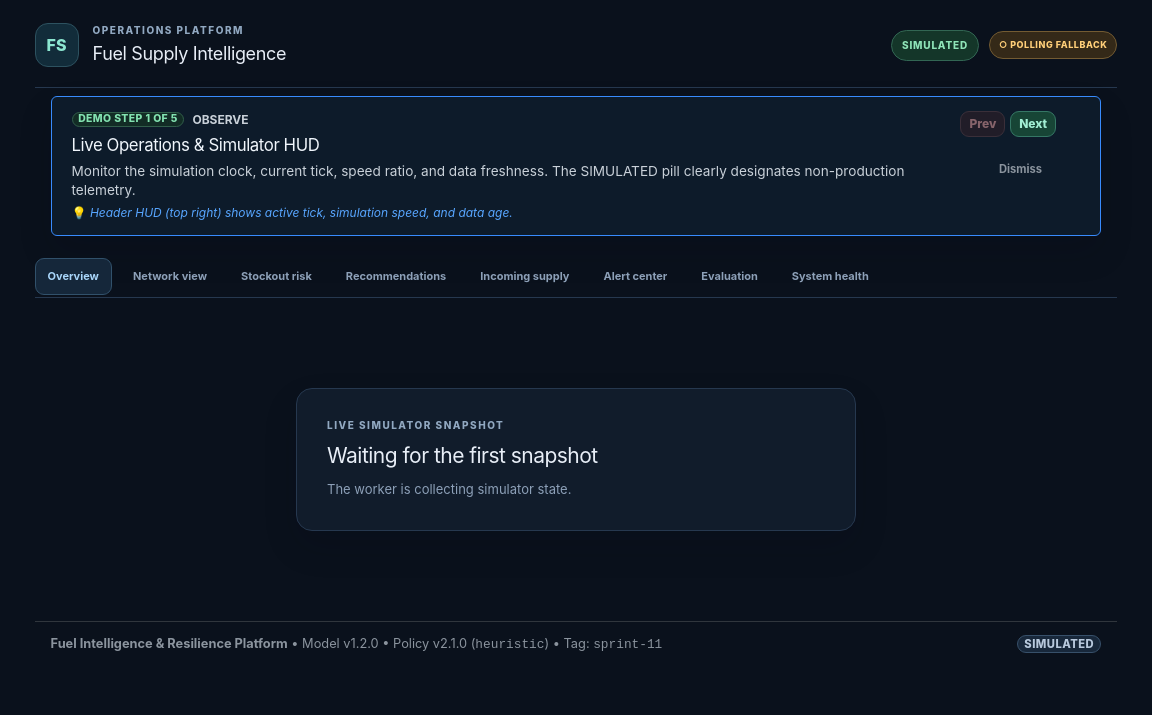
Test: operator application › fails closed without crashing when an API recommendation has a malformed request body
The width and height of the screenshot is (1152, 715).
Click the button "Recommendations" at [396, 277], box 333,258 -> 459,295
(page scrolled)
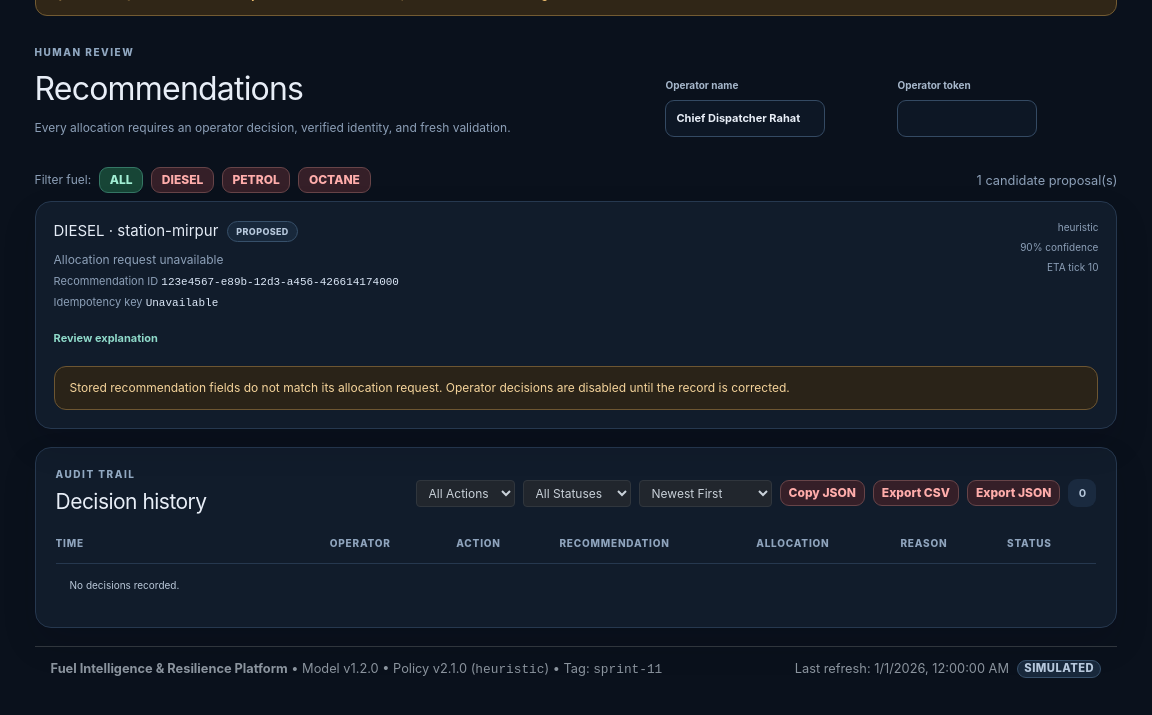
Expected: the text "Allocation request unavailable" is shown, 54,252 -> 223,267
Expected: the 2nd message shows "do not match its allocation request", 70,380 -> 790,395
